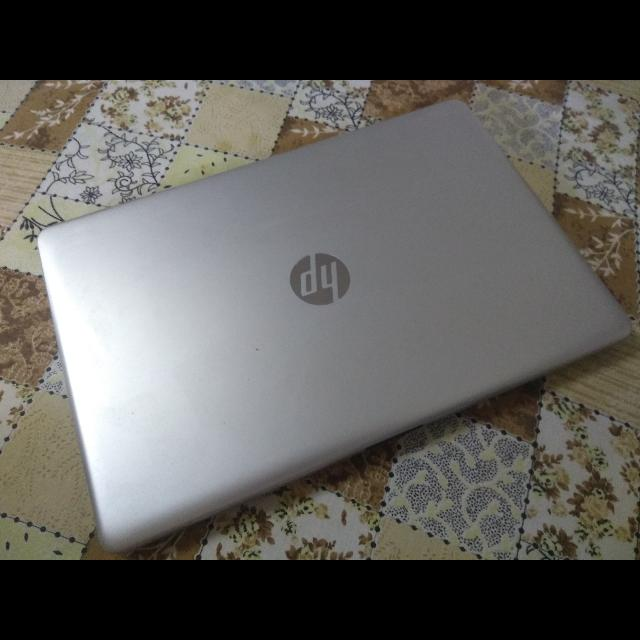Laptop: (29, 90, 634, 560)
